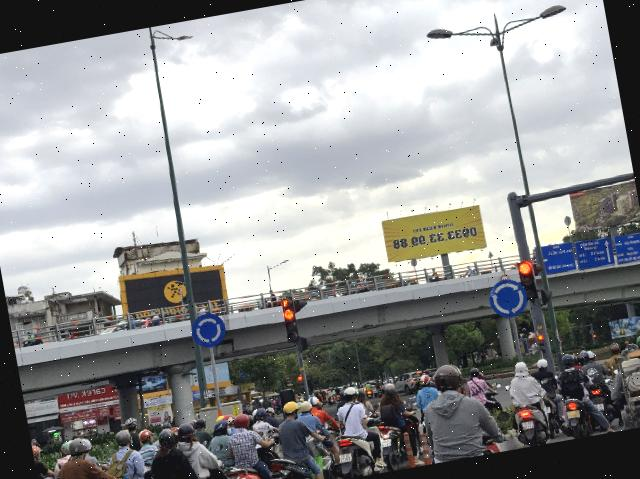noi-giao-nhau-chay-theo-vong-xuyen: (485, 276, 530, 320), (188, 310, 228, 350)
